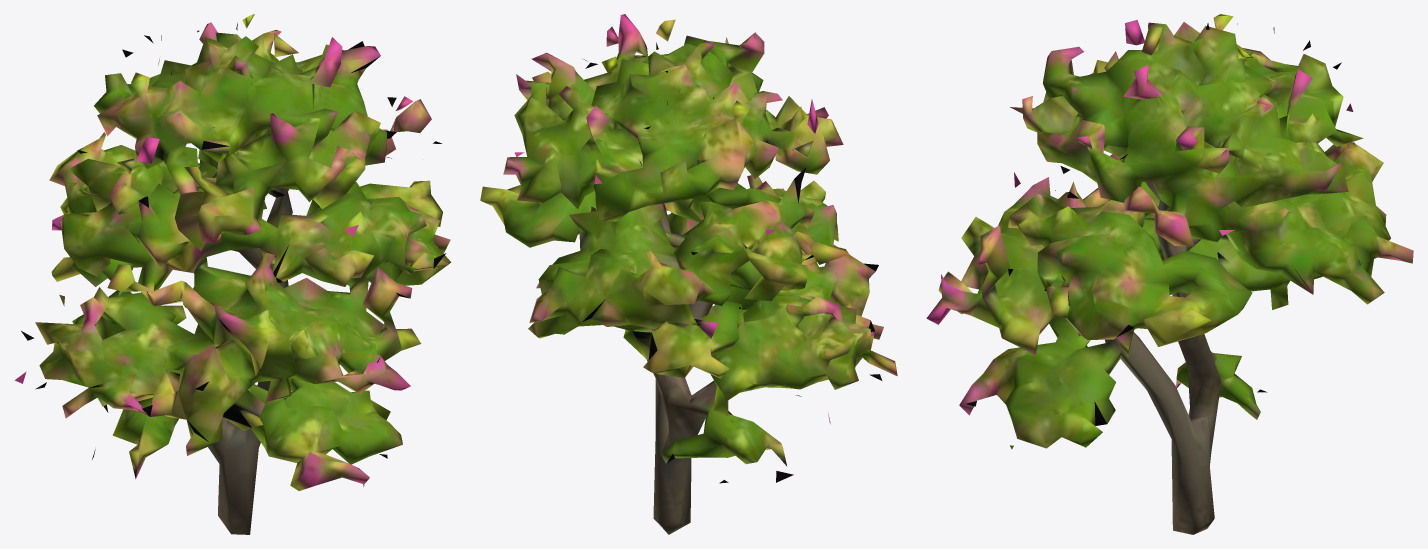
The model's file is tree_luan.glb.
3 views of the same model, side by side, from view 1: azimuth 30°, elevation 25°; view 2: azimuth 150°, elevation 25°; view 3: azimuth 270°, elevation 25° (orthographic). The views are drawn at different scales.
Visible parts, largest first — view 1: tree_luan; view 2: tree_luan; view 3: tree_luan.
Boxes of the visible parts, bbox=[...] form: tree_luan: bbox=[14, 14, 451, 534]; tree_luan: bbox=[480, 14, 897, 534]; tree_luan: bbox=[926, 14, 1413, 534].
Size of the model in its own units: 7.64 by 9.11 by 7.82.
1 material, 1 textured.
